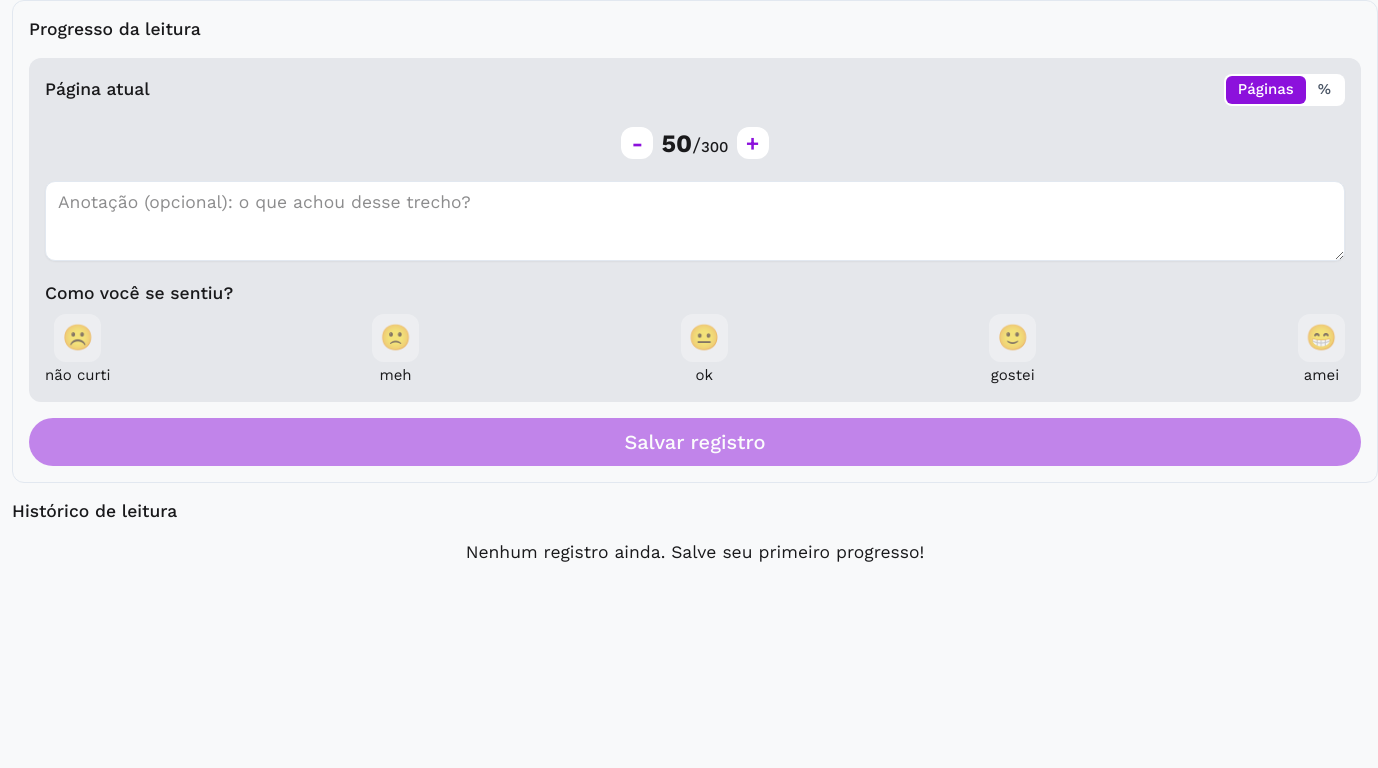
Test case: RegisterReadHistory › incrementa e decrementa a página atual
What coordinates should you click on to do the following:
click the button "+"
I would click on:
 (752, 144)
Its box is x1=736 y1=128 x2=768 y2=160.
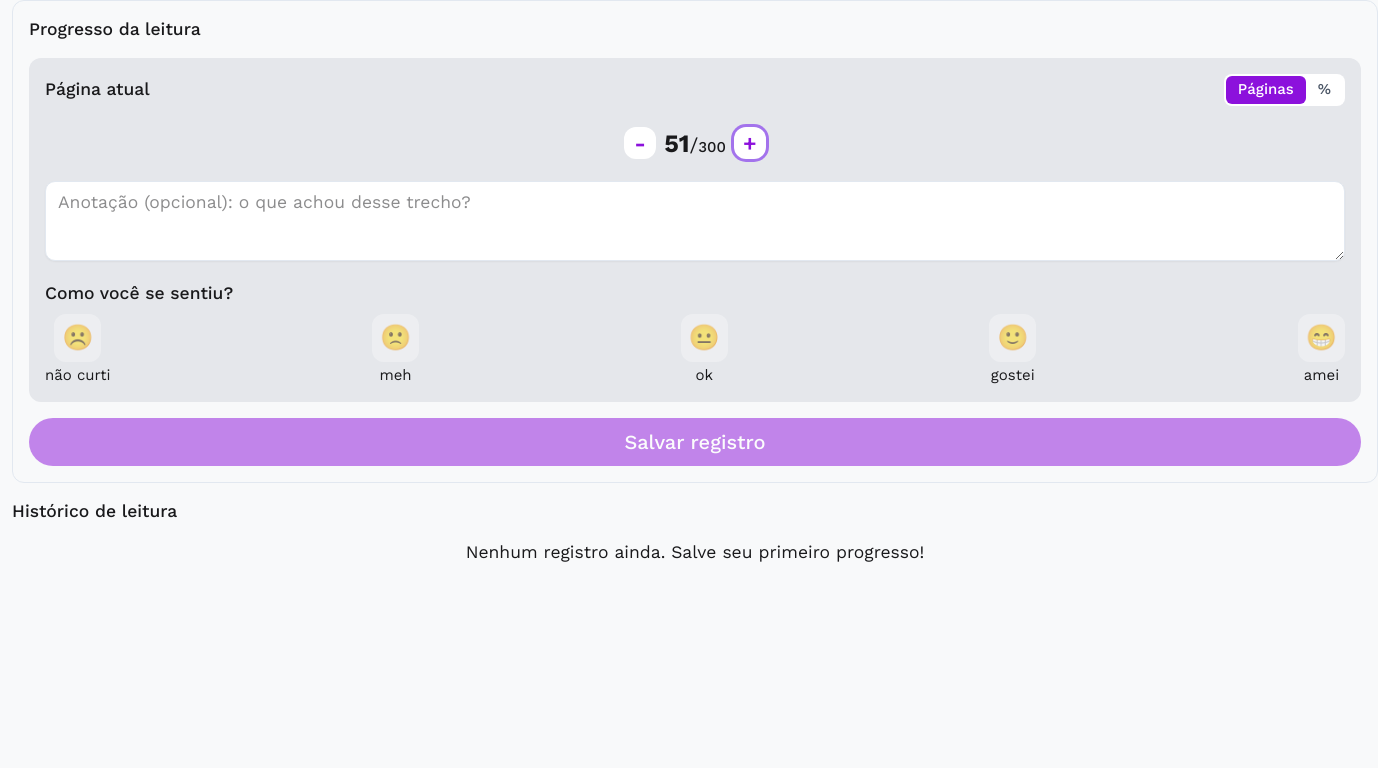
Expected: the text "51" is shown, x1=664 y1=129 x2=690 y2=158
What coordinates should you click on to do the following:
click the button "-"
I would click on:
 (640, 144)
Its box is x1=624 y1=128 x2=656 y2=160.
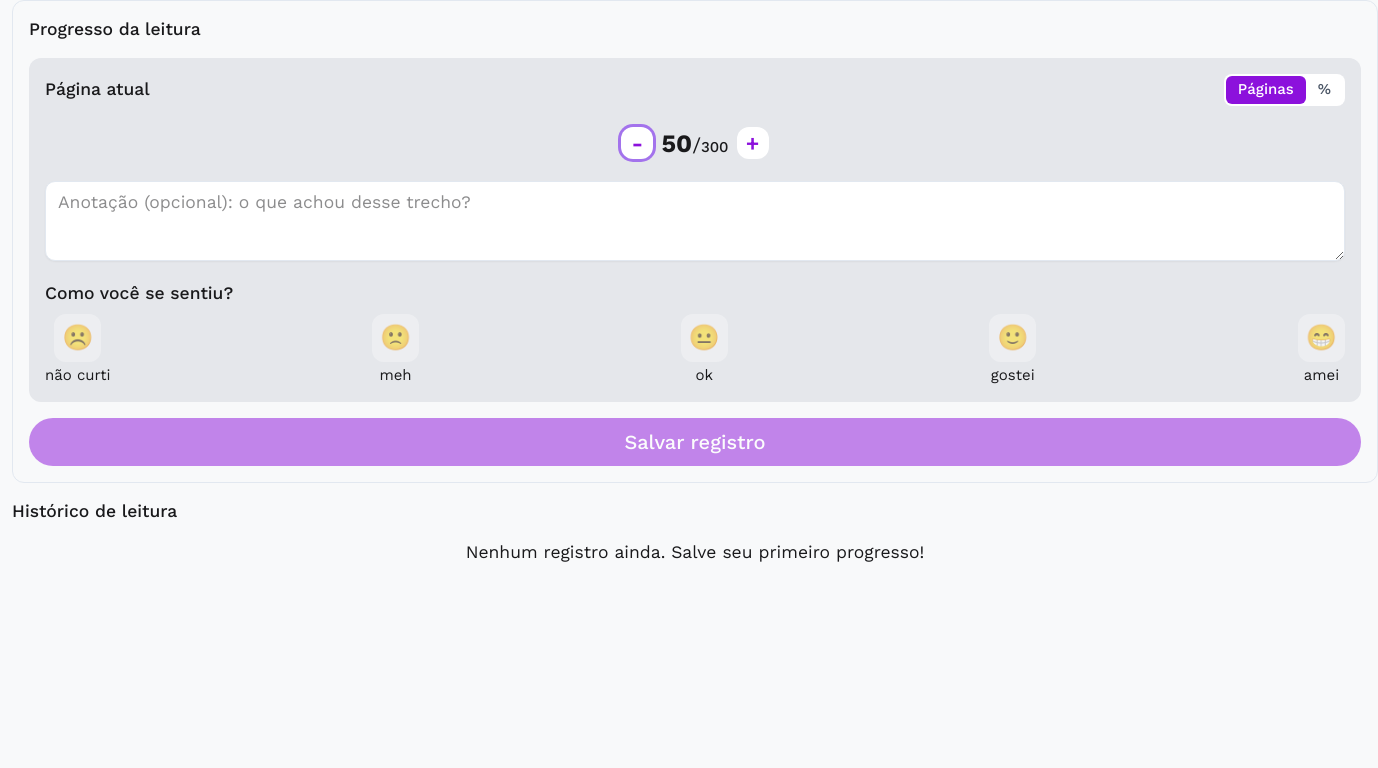
What coordinates should you click on to do the following:
click the button "-"
I would click on:
 (638, 144)
Its box is x1=622 y1=128 x2=654 y2=160.
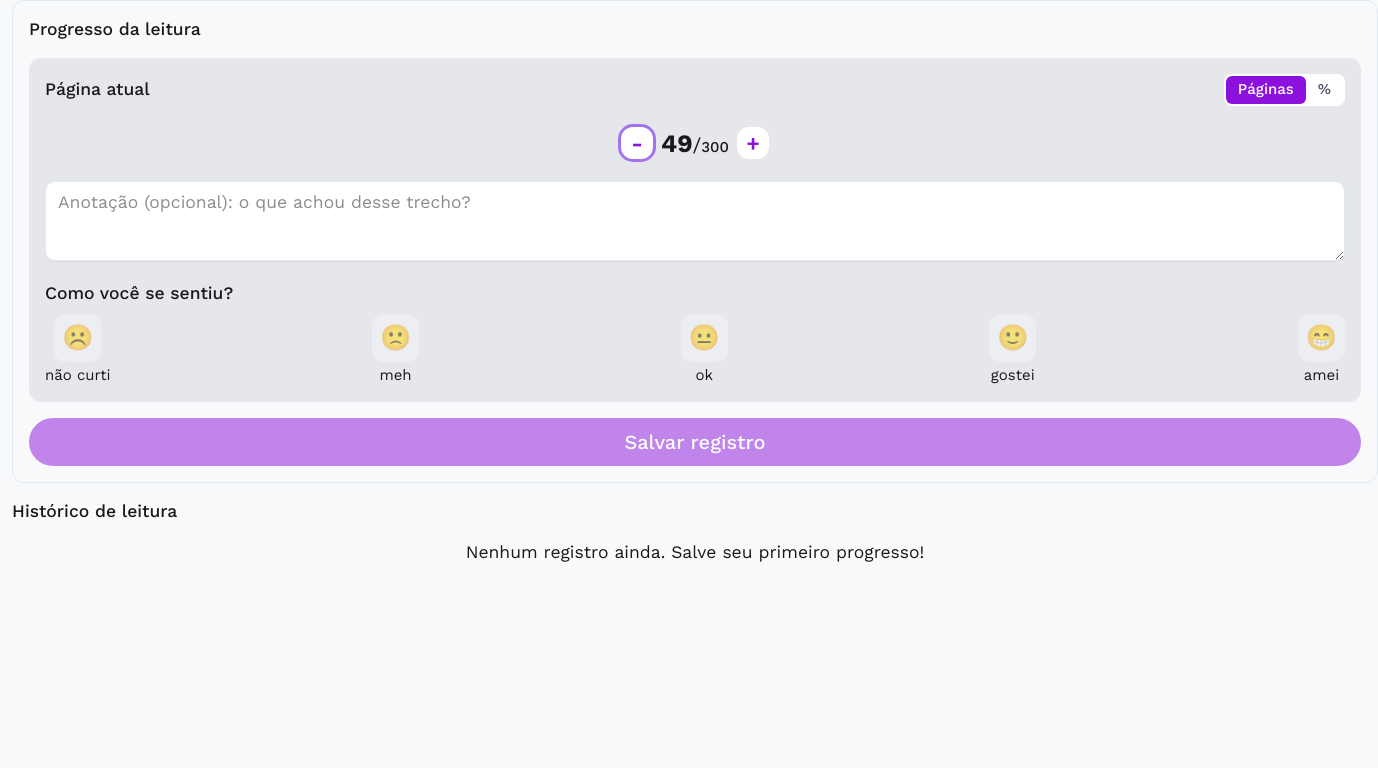
Expected: the text "49" is shown, x1=661 y1=129 x2=693 y2=158
